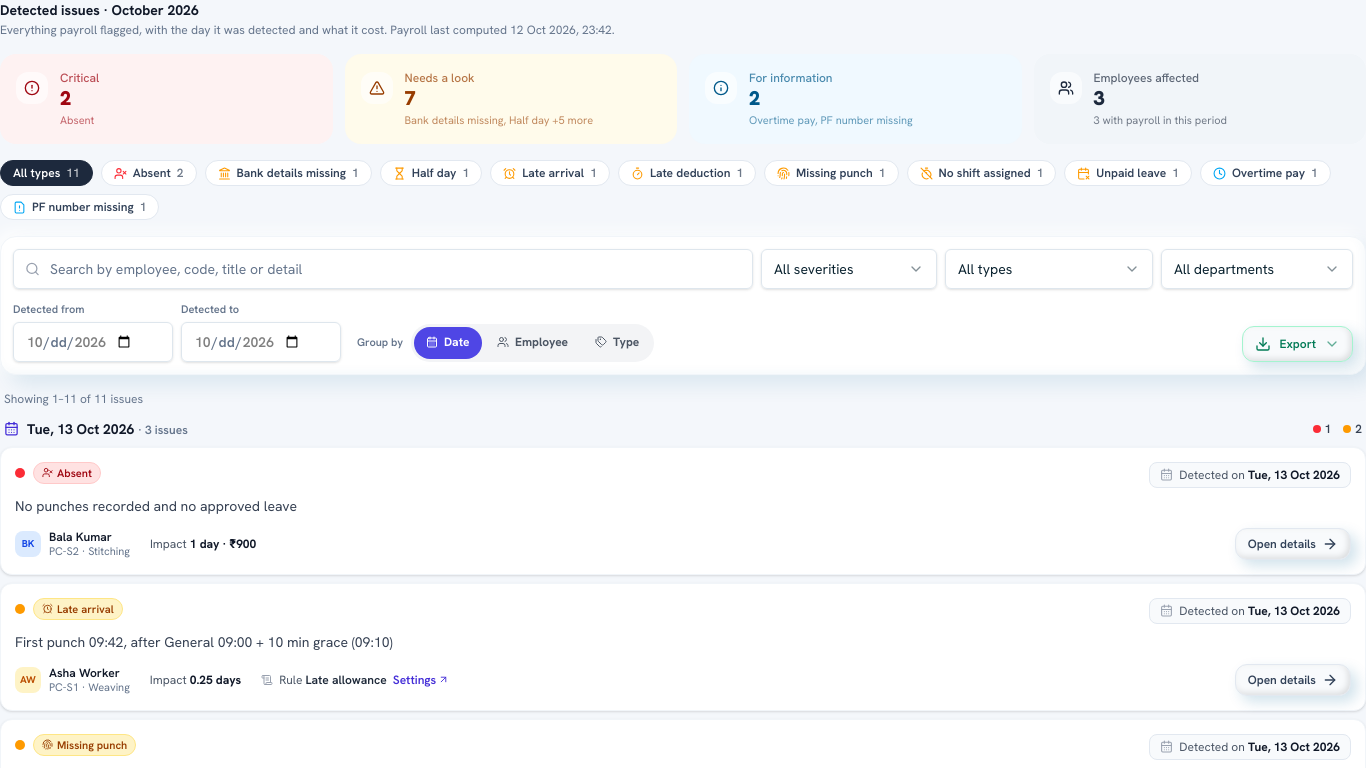
Test: the Issues panel, by employee › lists the employees as collapsed accordions, the worst first, each with their counts
Click the tab "Employee": {"x": 532, "y": 343} [484, 327, 580, 359]
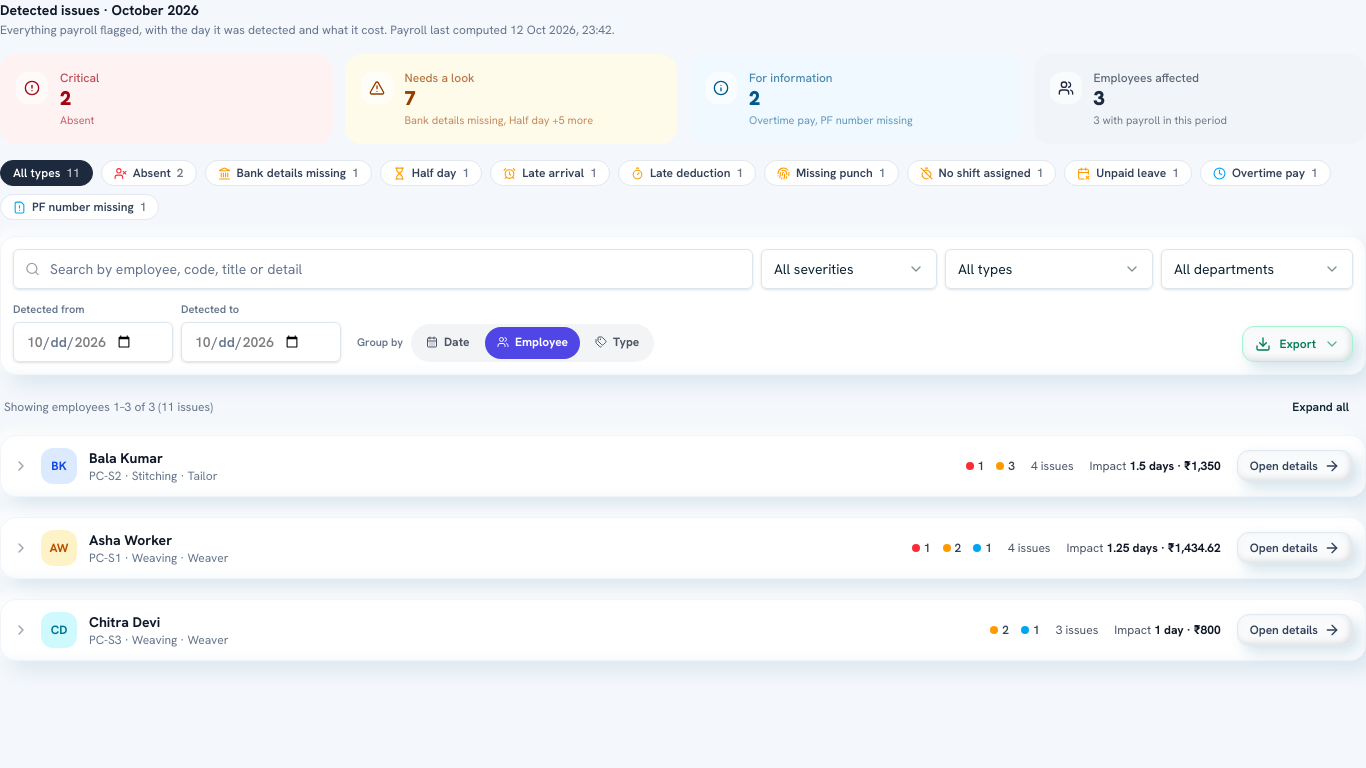
Check: the text "4 issues" in the row of "1.5 days · ₹1,350" is shown, box [1031, 458, 1074, 474]
Check: the element with test id "issues-employee-impact" reads "Impact 1.25 days · ₹1,434.62", box [1066, 540, 1221, 556]
Check: the text "Showing employees 1–3 of 3 (11 issues)" is shown, box [4, 399, 213, 415]
